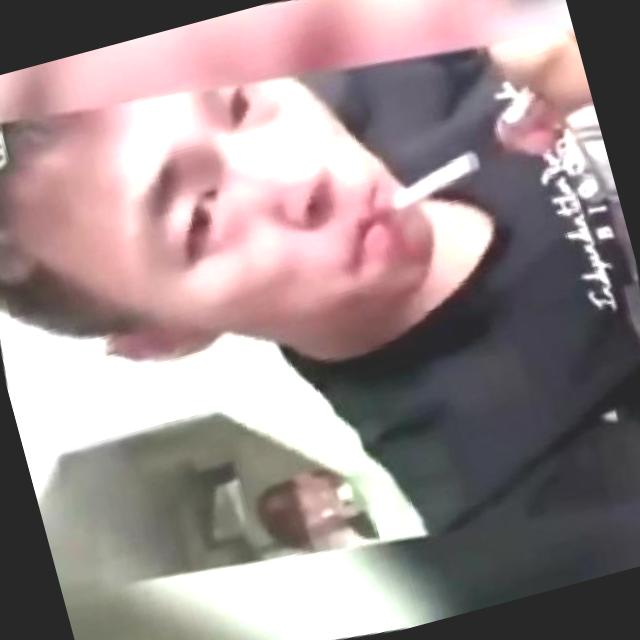smoke: (343, 138, 498, 249)
